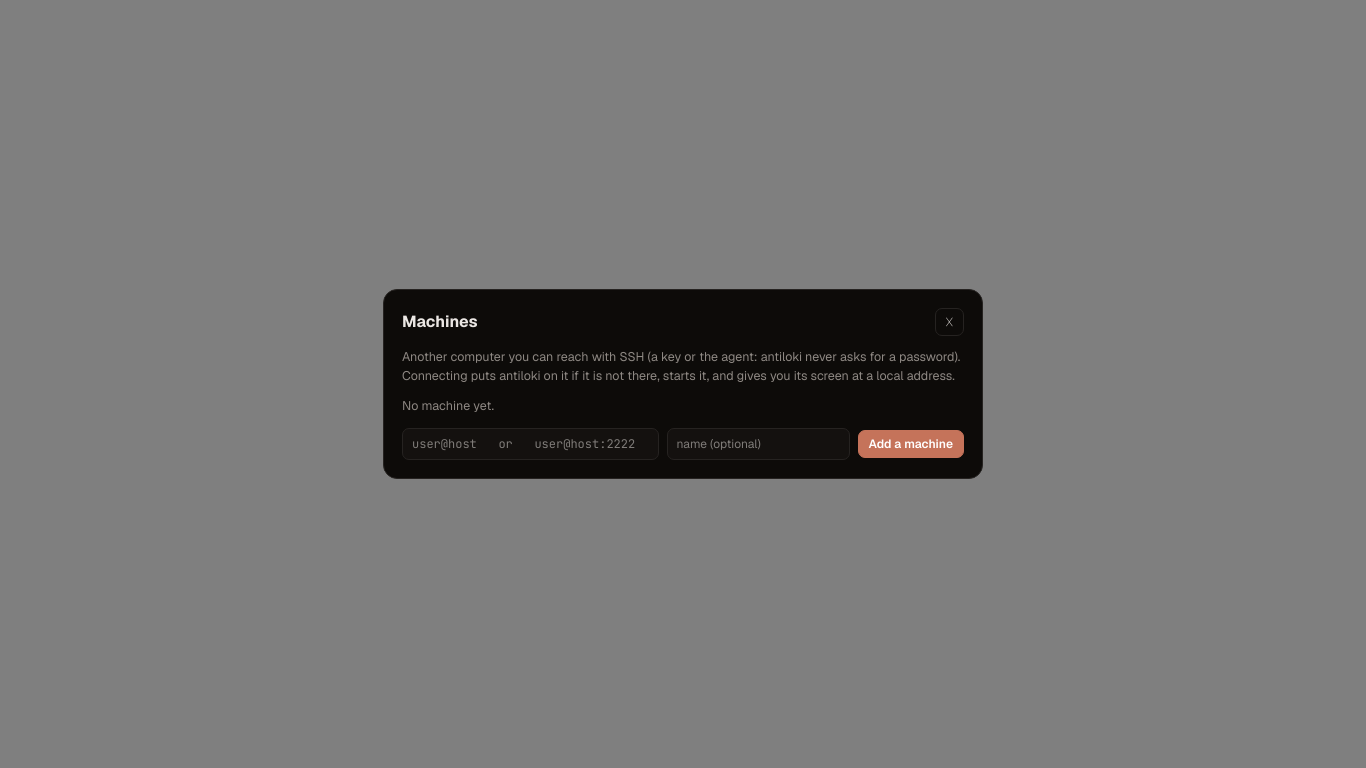
Test: the machines panel › adds a machine from user@host, connects it in one click showing the steps, and offers its screen
expect the text with test id "machines-empty" is shown: met, box 402,397 -> 494,414
Type " dane@build.local " into the field with test id "machine-target" at {"x": 530, "y": 444}, box 402,428 -> 658,460
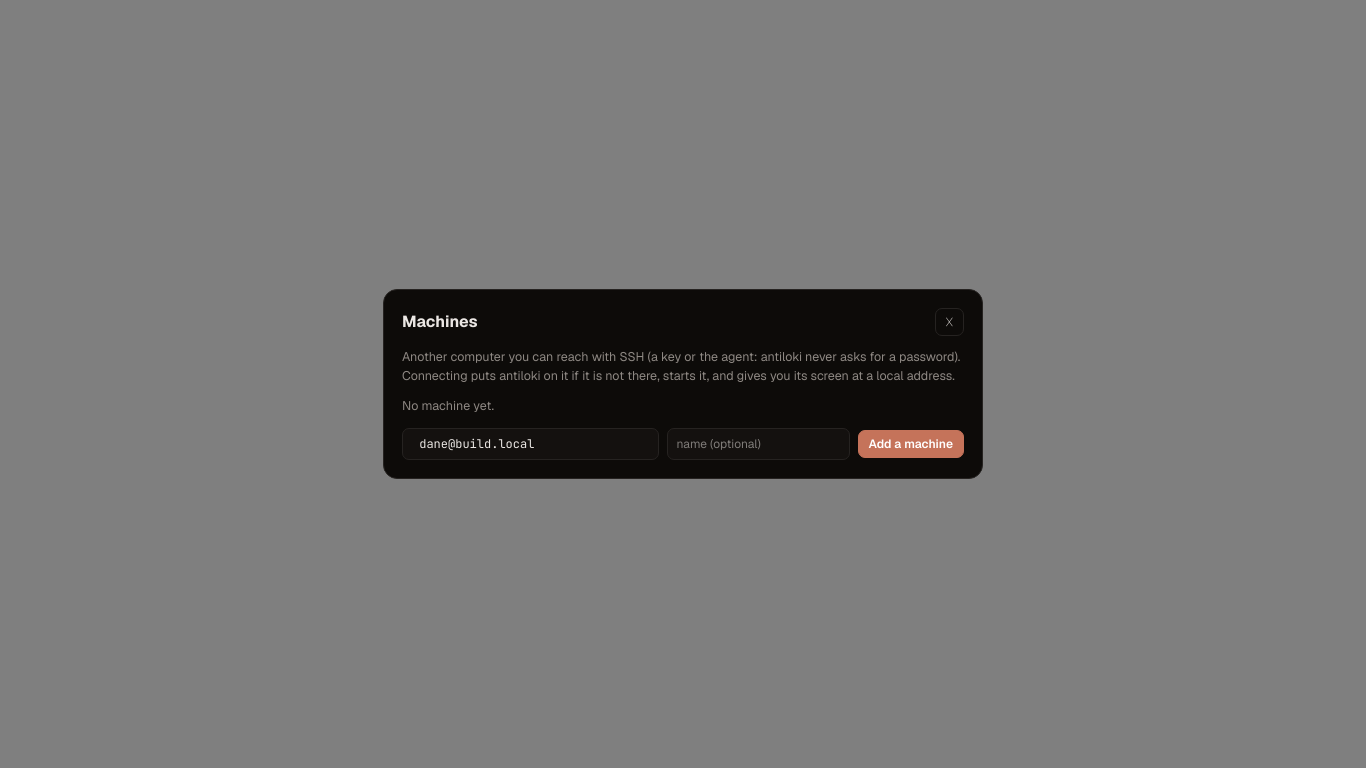
Type "Build box" into the field with test id "machine-name" at {"x": 758, "y": 444}, box 666,428 -> 850,460
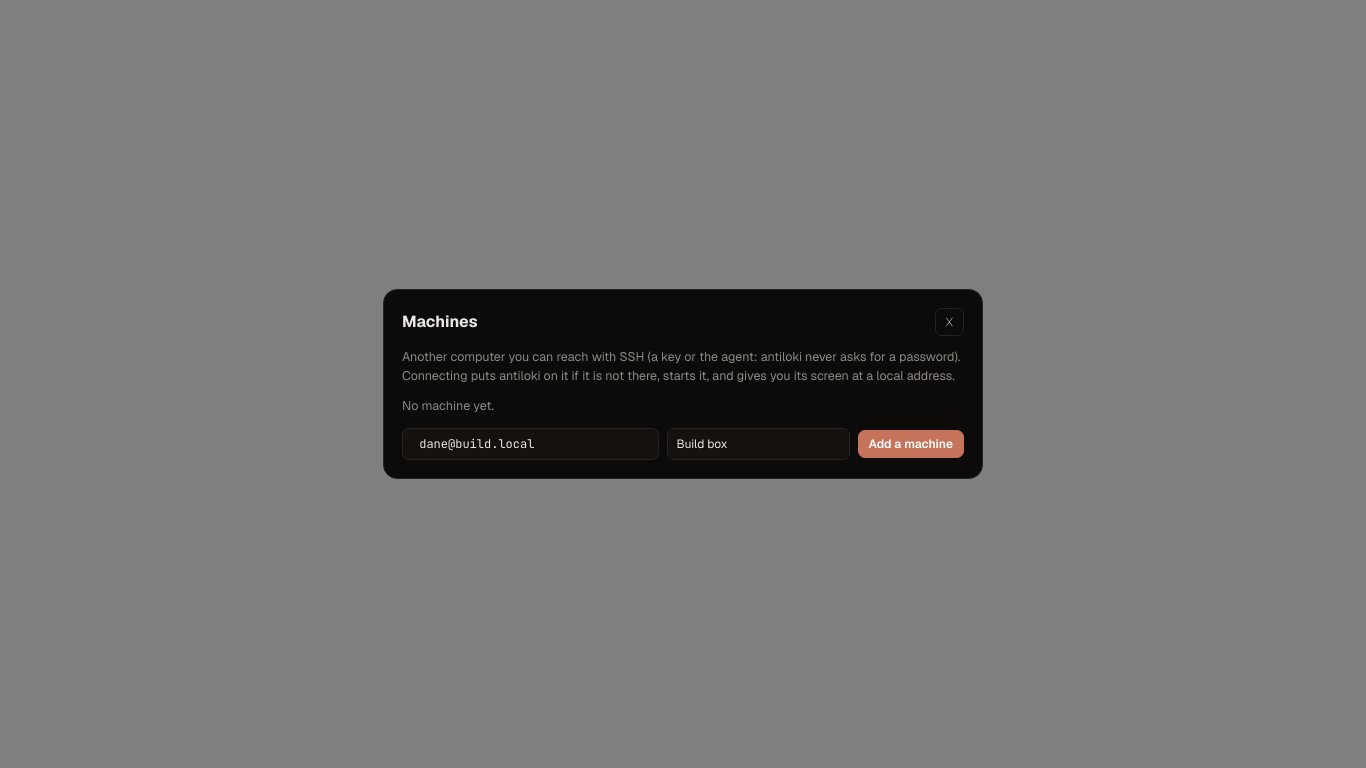
Click the button with test id "machine-add" at {"x": 911, "y": 444}, box 858,430 -> 964,458
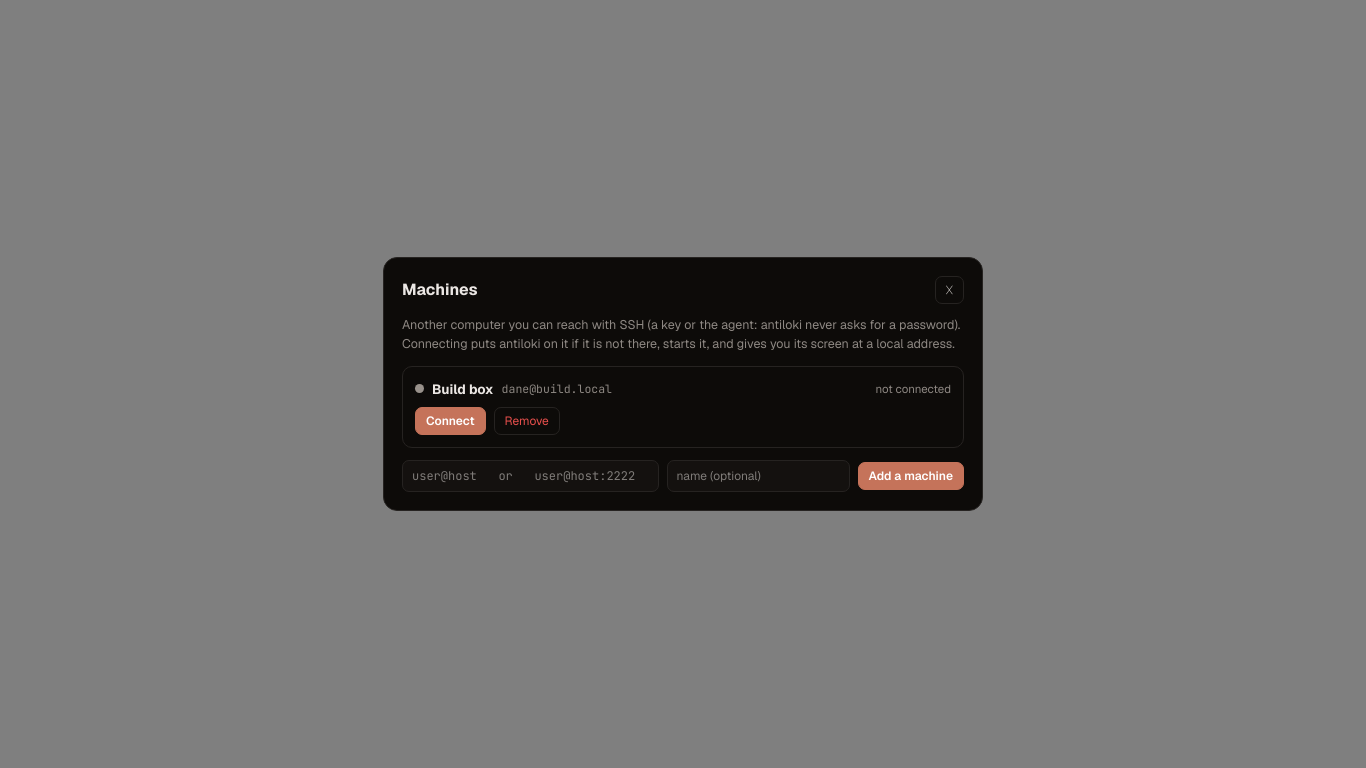
expect the element with test id "machine-build-box" is shown: met, box 402,366 -> 964,448
expect the field with test id "machine-target" is empty: met, box 402,460 -> 658,492
Click the button with test id "machine-connect-build-box" at {"x": 450, "y": 421}, box 415,407 -> 486,435
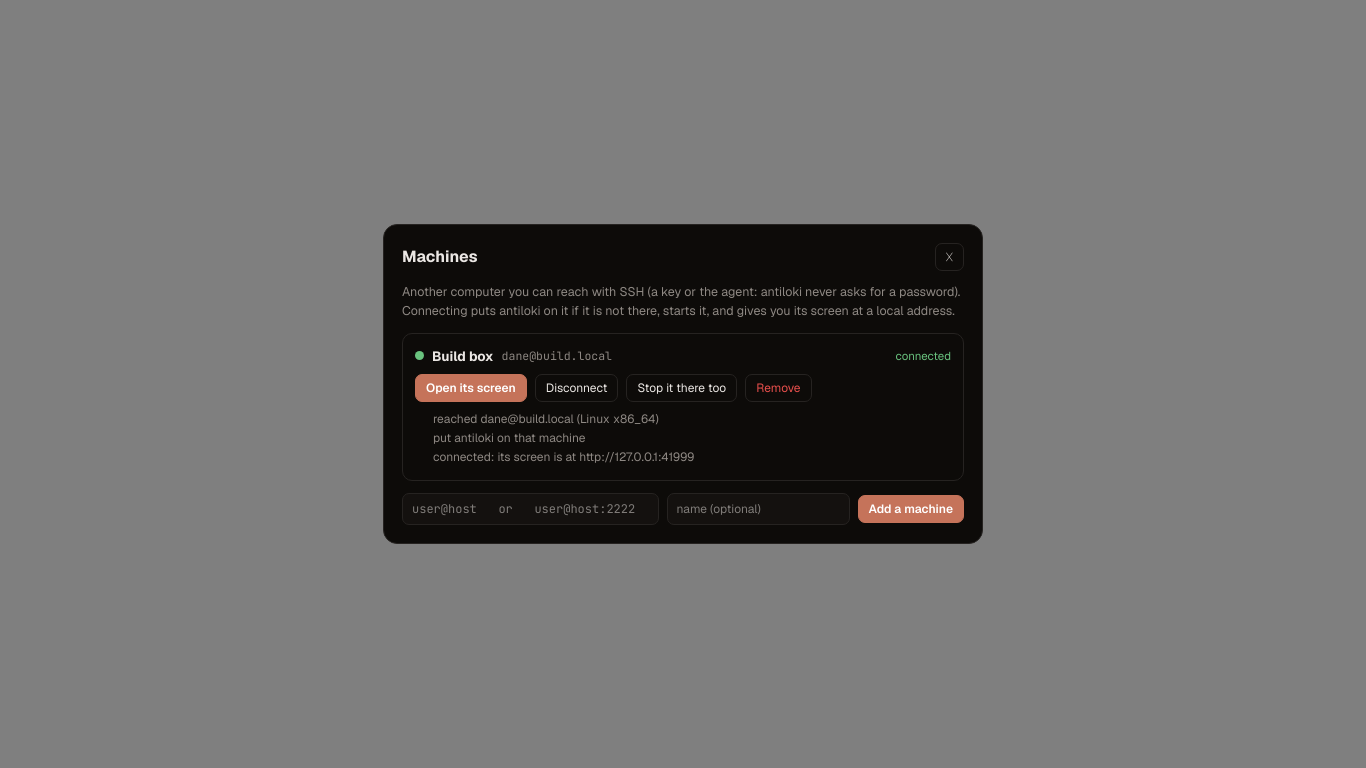
expect the link with test id "machine-open-build-box" is shown: met, box 415,374 -> 527,402
